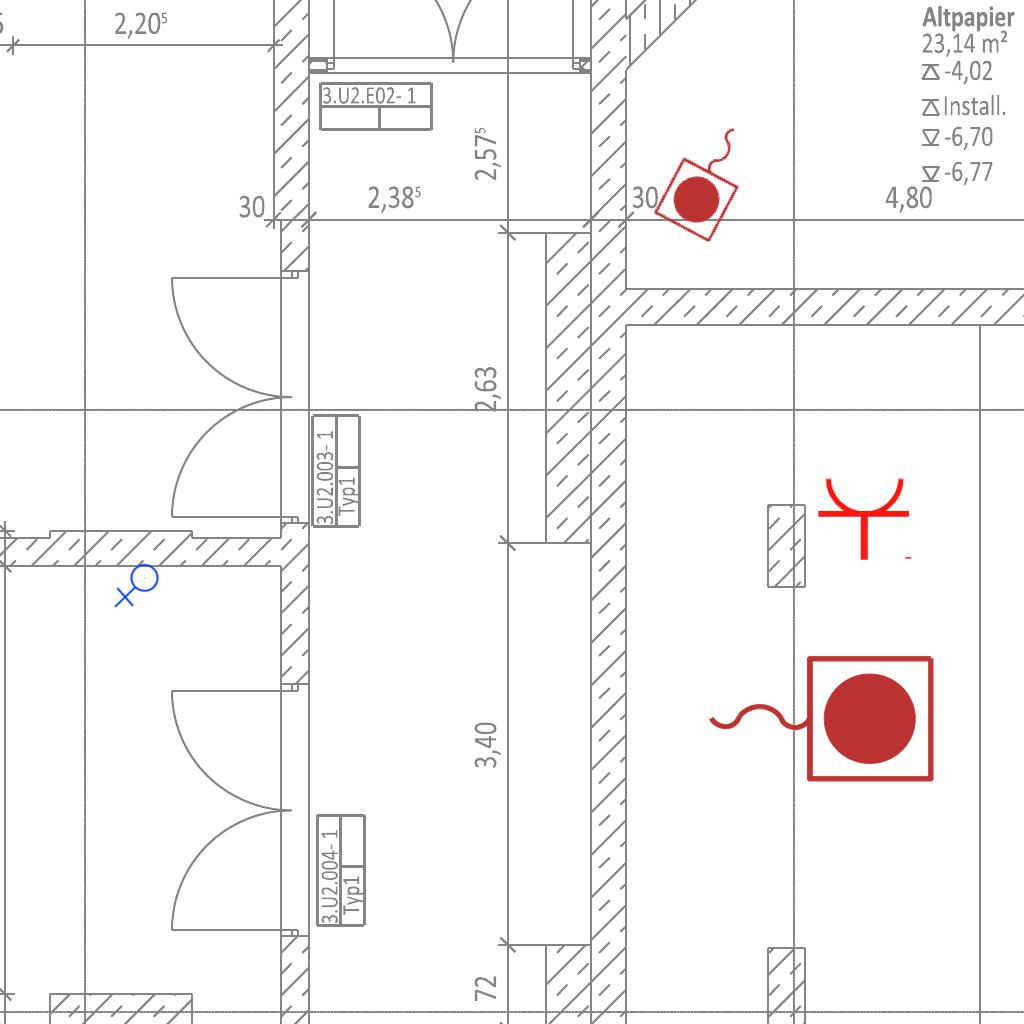Elektroanschluss_allgemein_230V_Geraeteanschlussdose_230V: (114, 563, 163, 610)
Schukosteckdose_einfach: (816, 475, 916, 562)
Zugtaster: (698, 645, 942, 789), (648, 107, 770, 249)
